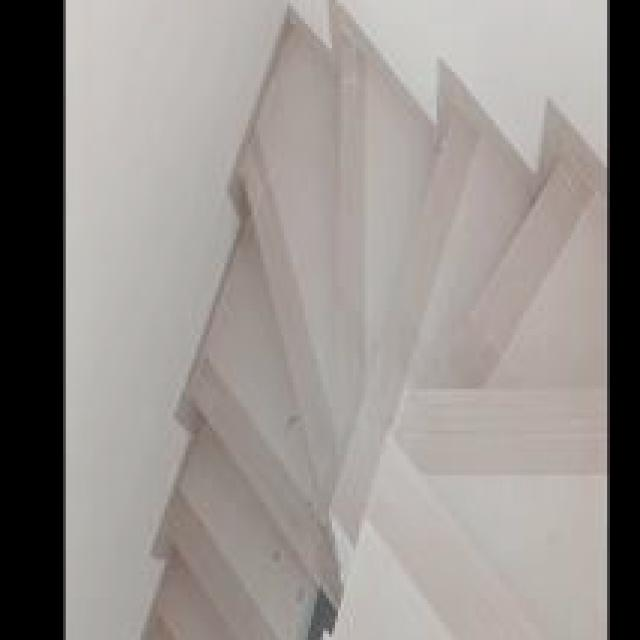downstair: (237, 76, 608, 635)
